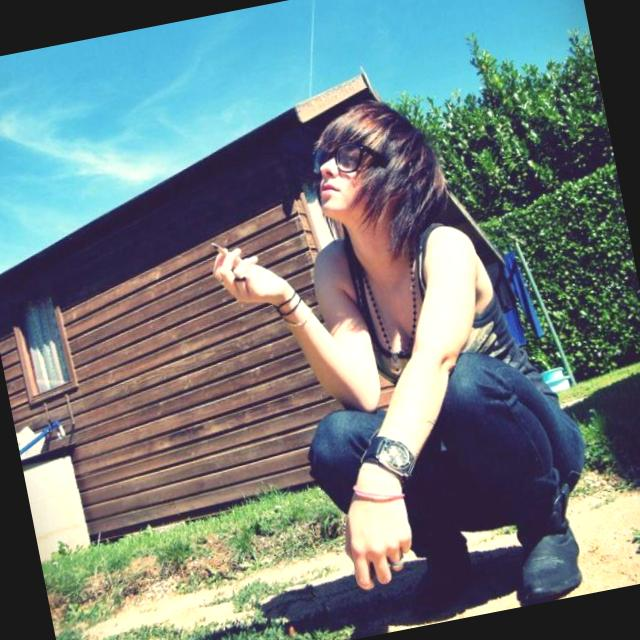smoke: (198, 222, 260, 276)
